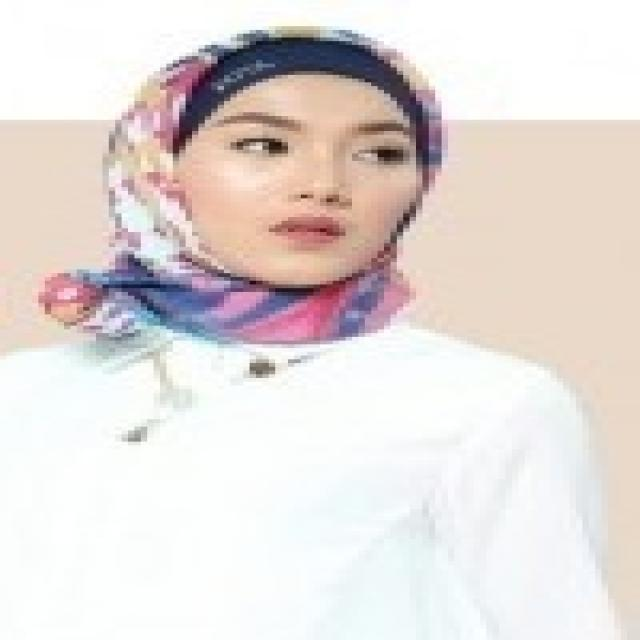head: (106, 22, 449, 299)
